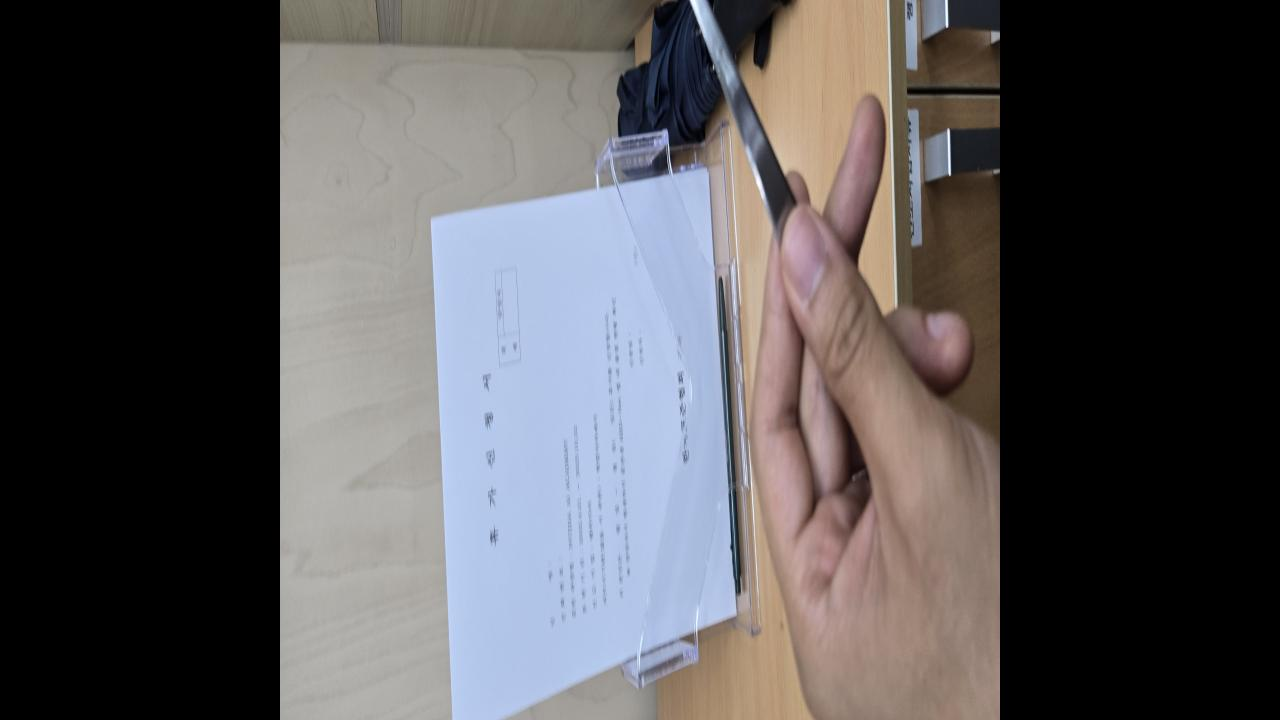fork: (571, 0, 792, 234)
